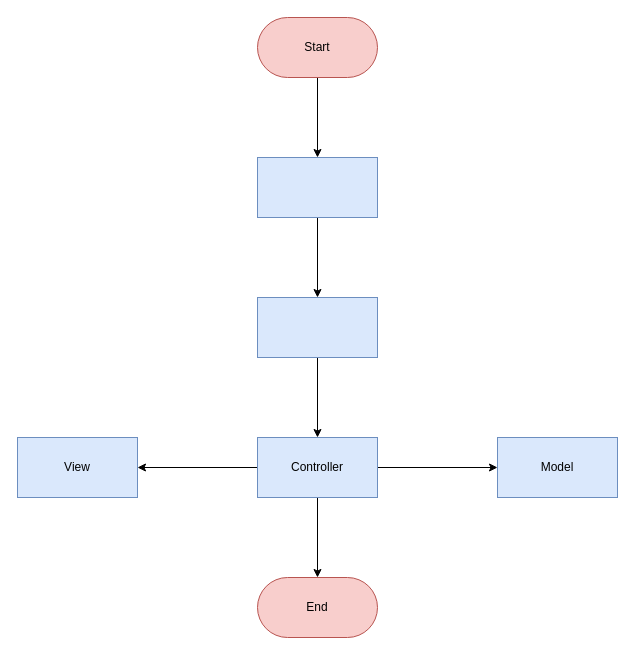
Some shapes in this 635 by 655 pixel diagram are drawn without their labels. Here are the shapes that lost their labels. From the top down, the centre of each, then its label:
(x=317, y=187): Route
(x=317, y=327): Middleware
